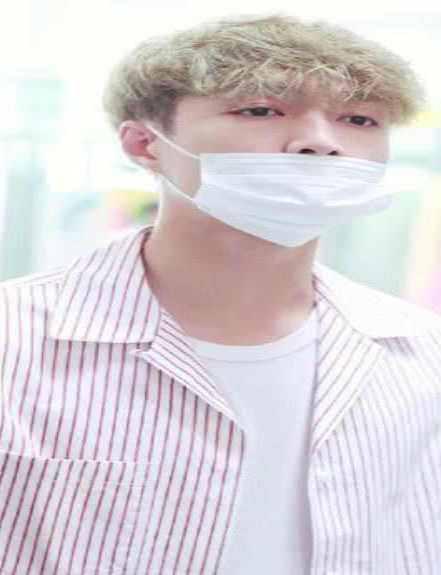mask_weared_incorrect: (168, 97, 399, 251)
